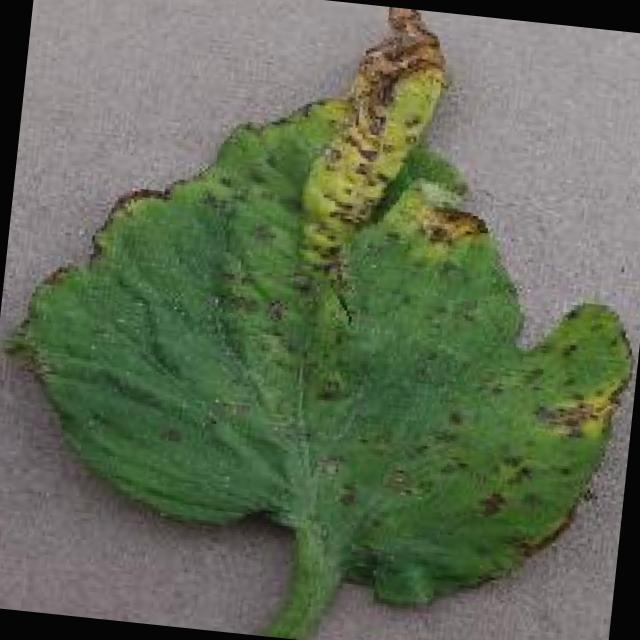bacterial spot: (22, 5, 637, 640)
